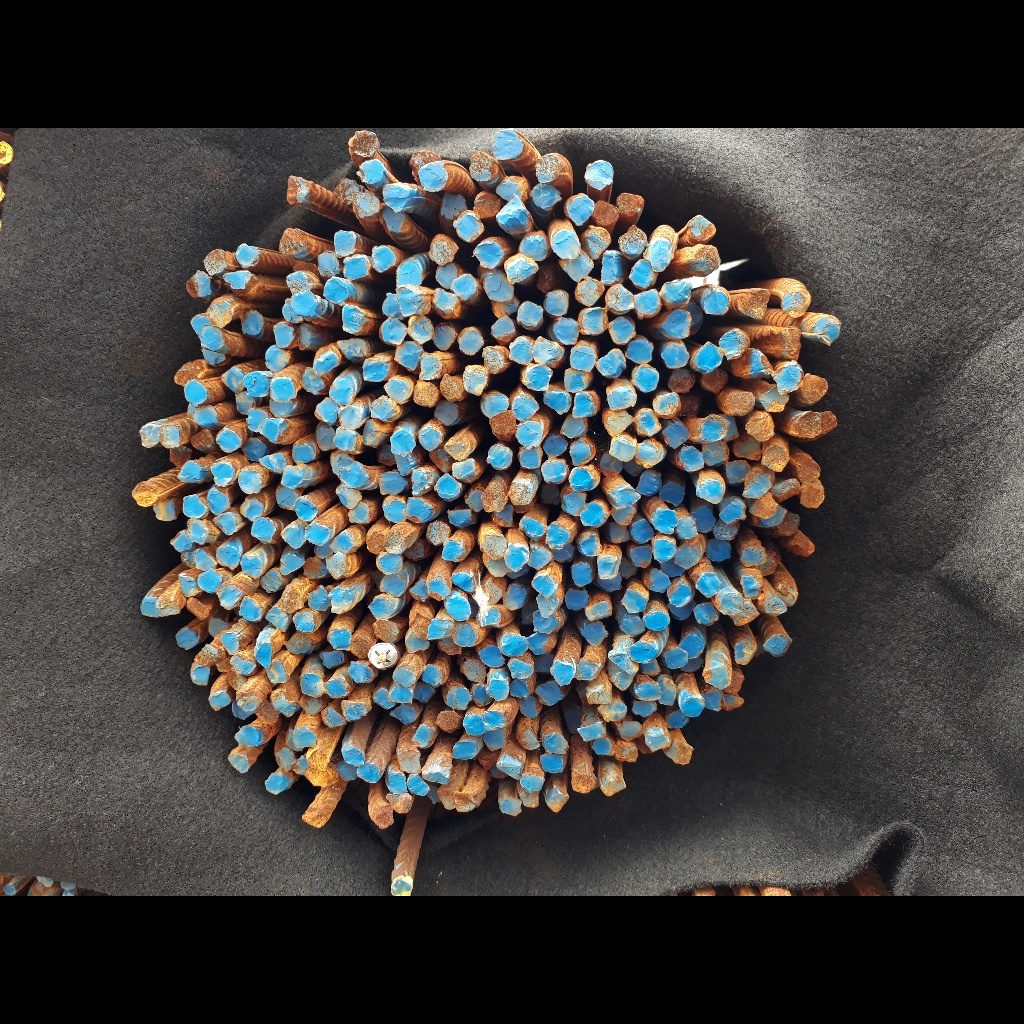dipstick: (495, 198, 535, 233), (331, 452, 368, 488), (736, 287, 772, 322), (660, 309, 695, 342), (691, 340, 726, 372), (698, 474, 729, 508), (797, 370, 827, 405), (559, 249, 594, 279), (778, 288, 810, 320), (790, 452, 823, 483), (722, 389, 759, 416), (491, 131, 525, 160), (551, 228, 582, 259), (773, 364, 803, 396), (584, 159, 614, 190), (420, 160, 451, 190), (469, 149, 499, 180), (618, 226, 649, 256), (744, 413, 775, 443), (718, 329, 750, 358), (741, 470, 773, 499), (601, 407, 633, 436), (583, 226, 611, 259), (394, 339, 422, 372), (514, 233, 549, 259), (694, 414, 729, 440), (631, 364, 661, 394), (405, 623, 435, 653), (381, 182, 412, 211), (578, 498, 607, 529), (216, 539, 244, 571), (532, 339, 565, 366), (564, 367, 597, 394), (745, 346, 771, 380), (617, 191, 647, 220), (691, 247, 721, 276), (791, 410, 821, 439), (702, 661, 731, 691), (473, 241, 503, 270), (607, 383, 636, 413), (534, 678, 565, 706), (577, 276, 605, 307), (607, 315, 638, 343), (446, 428, 474, 459), (490, 409, 518, 440), (433, 260, 466, 286), (483, 274, 516, 300), (688, 213, 717, 242), (361, 420, 390, 449), (566, 195, 594, 225), (627, 259, 657, 287), (530, 610, 565, 634), (433, 473, 463, 501), (568, 558, 595, 589), (652, 392, 684, 418), (799, 481, 827, 510), (263, 344, 292, 372), (472, 189, 500, 218), (666, 578, 694, 607), (429, 236, 458, 264), (617, 608, 645, 637), (553, 318, 582, 346), (369, 592, 398, 620), (503, 543, 531, 572), (332, 177, 362, 204), (495, 173, 525, 200), (676, 541, 706, 568), (278, 463, 308, 490), (637, 441, 664, 471), (407, 317, 437, 344), (335, 483, 365, 510), (598, 695, 629, 721), (659, 478, 684, 510), (505, 257, 538, 281), (677, 631, 705, 659), (607, 283, 635, 311), (700, 288, 729, 315), (322, 274, 349, 303), (280, 522, 307, 551), (490, 498, 517, 527), (454, 215, 484, 241), (371, 396, 401, 422), (418, 351, 444, 381), (571, 391, 601, 417), (569, 466, 599, 492), (567, 439, 598, 464), (759, 388, 791, 412), (373, 550, 405, 574), (378, 471, 410, 495), (339, 337, 372, 360), (186, 269, 213, 297), (661, 339, 688, 367), (383, 315, 410, 343), (625, 334, 653, 361), (634, 408, 661, 436), (388, 428, 416, 455), (512, 392, 540, 419), (762, 445, 791, 471), (718, 497, 747, 523), (298, 673, 327, 699), (239, 467, 265, 496), (525, 631, 554, 657), (451, 622, 480, 648), (405, 498, 434, 524), (203, 246, 228, 276), (631, 677, 661, 702), (784, 534, 815, 558), (342, 304, 366, 335), (300, 365, 327, 392), (663, 421, 690, 448), (678, 444, 705, 471), (652, 508, 679, 535), (644, 567, 671, 594), (621, 587, 648, 614), (482, 346, 509, 373), (482, 390, 509, 417), (763, 632, 791, 658), (285, 179, 311, 207), (643, 246, 671, 272), (289, 290, 317, 316), (441, 191, 467, 219), (396, 286, 424, 312), (324, 550, 350, 578), (333, 426, 359, 454), (464, 368, 490, 396), (565, 587, 593, 613), (175, 361, 204, 386), (569, 345, 598, 370), (353, 193, 383, 217), (356, 160, 386, 184), (656, 677, 680, 707), (724, 459, 754, 483), (516, 303, 546, 327), (347, 132, 379, 154), (409, 150, 441, 172), (813, 319, 840, 345), (693, 600, 719, 627), (370, 245, 396, 272), (703, 439, 729, 466), (586, 679, 613, 705), (550, 659, 576, 686), (274, 486, 301, 512), (458, 328, 485, 354), (373, 619, 399, 646), (562, 488, 588, 515), (540, 458, 567, 484), (546, 287, 571, 315), (611, 434, 636, 462), (369, 643, 397, 668), (542, 430, 567, 458), (520, 515, 548, 540), (499, 632, 528, 656), (577, 530, 606, 554), (427, 616, 456, 640), (476, 604, 505, 628), (475, 581, 504, 605), (776, 578, 799, 608), (600, 251, 622, 282), (543, 787, 569, 813), (280, 229, 306, 255), (197, 568, 223, 594), (221, 367, 247, 393), (303, 556, 329, 582), (396, 261, 422, 287), (510, 338, 536, 364), (210, 459, 235, 486), (243, 371, 268, 398), (343, 254, 370, 279), (633, 291, 660, 316), (265, 605, 290, 632), (251, 517, 276, 544), (329, 586, 354, 613), (580, 306, 607, 331), (676, 541, 701, 568), (546, 522, 571, 549), (435, 399, 462, 424), (236, 722, 264, 746), (498, 754, 526, 778), (501, 583, 529, 607), (486, 445, 514, 469), (442, 686, 471, 709), (362, 358, 391, 381), (229, 655, 259, 677), (384, 378, 414, 400), (442, 596, 472, 618), (388, 702, 419, 723), (740, 544, 766, 569), (396, 749, 422, 774), (188, 595, 214, 620), (200, 324, 225, 350), (217, 584, 242, 610), (240, 311, 265, 337), (451, 273, 476, 299), (328, 375, 353, 401), (338, 402, 364, 427), (382, 496, 407, 522), (524, 364, 550, 389), (452, 566, 478, 591), (480, 534, 506, 559), (535, 157, 562, 181), (531, 184, 558, 208), (663, 647, 690, 671), (702, 367, 729, 391), (393, 664, 420, 688), (380, 292, 403, 320), (582, 622, 610, 645), (592, 202, 621, 224), (269, 323, 298, 345), (694, 503, 716, 532), (750, 495, 780, 516), (192, 545, 217, 570), (214, 511, 239, 536), (206, 489, 231, 514), (217, 427, 242, 452), (637, 471, 662, 496), (427, 521, 452, 546), (781, 330, 805, 356), (184, 517, 208, 543), (184, 380, 208, 406), (437, 709, 461, 735), (286, 632, 312, 656), (600, 351, 624, 377), (435, 324, 459, 350), (479, 645, 505, 669), (565, 415, 591, 439), (418, 424, 442, 450), (441, 374, 465, 400), (543, 390, 569, 414), (599, 773, 626, 796), (388, 791, 415, 814), (131, 485, 158, 508), (538, 752, 565, 775), (269, 377, 296, 400), (312, 348, 339, 371), (676, 512, 699, 539), (316, 424, 339, 451), (414, 382, 441, 405), (665, 743, 693, 765), (615, 720, 643, 742), (422, 763, 450, 785), (308, 586, 330, 614), (771, 480, 800, 501), (290, 441, 319, 462), (447, 507, 476, 528), (371, 804, 396, 828), (303, 767, 333, 787), (272, 691, 297, 715), (461, 712, 486, 736), (246, 406, 270, 431), (316, 252, 340, 277), (239, 554, 263, 579), (241, 496, 265, 521), (294, 498, 319, 522), (262, 771, 288, 794), (178, 461, 204, 484), (475, 747, 501, 770), (261, 567, 284, 593), (312, 397, 338, 420), (431, 287, 458, 309), (630, 519, 657, 541), (596, 552, 618, 579), (484, 484, 506, 511), (383, 214, 414, 233), (677, 697, 705, 718), (223, 269, 252, 289), (378, 572, 407, 592), (155, 593, 179, 617), (191, 428, 215, 452), (610, 521, 634, 545), (331, 530, 355, 554), (427, 575, 451, 599), (509, 481, 533, 505), (517, 445, 541, 469), (643, 728, 668, 751), (356, 760, 381, 783), (705, 539, 730, 562), (263, 452, 288, 475), (652, 537, 675, 562), (366, 529, 389, 554), (734, 603, 760, 625), (384, 769, 410, 791), (157, 424, 183, 446), (208, 301, 234, 323), (584, 598, 610, 620), (535, 592, 561, 614), (254, 641, 275, 668), (540, 733, 568, 753), (479, 730, 507, 750), (333, 230, 356, 254), (576, 660, 600, 683), (631, 543, 654, 567), (424, 665, 448, 688), (696, 573, 721, 595), (282, 298, 304, 323), (329, 629, 354, 651), (395, 452, 420, 474), (498, 795, 524, 816), (474, 681, 495, 707), (322, 679, 348, 700), (241, 439, 267, 460), (452, 462, 478, 483), (431, 445, 452, 471), (292, 726, 319, 746), (630, 697, 657, 717), (577, 721, 607, 739), (348, 661, 375, 681), (193, 644, 221, 663), (668, 370, 696, 389), (531, 577, 559, 596), (778, 513, 801, 536), (227, 751, 250, 774), (195, 404, 218, 427), (765, 595, 789, 617), (614, 742, 638, 764), (343, 746, 365, 770), (302, 807, 326, 829), (207, 691, 231, 713), (177, 573, 199, 597), (171, 528, 193, 552), (234, 392, 256, 416), (492, 317, 516, 339), (352, 634, 374, 658), (442, 540, 466, 562), (468, 489, 490, 513), (406, 775, 431, 796), (235, 692, 260, 713), (181, 494, 206, 515), (280, 552, 305, 573), (493, 298, 518, 319), (615, 488, 640, 509), (319, 708, 345, 728), (266, 659, 286, 685), (631, 642, 657, 662), (483, 556, 509, 576), (453, 791, 476, 813), (488, 675, 510, 698), (518, 696, 541, 718), (512, 675, 534, 698), (601, 453, 624, 475), (453, 738, 477, 759), (342, 700, 367, 720), (482, 708, 507, 728), (370, 688, 395, 708), (295, 325, 315, 350), (644, 611, 669, 631), (385, 528, 405, 553), (259, 700, 278, 726), (199, 347, 226, 365), (437, 788, 460, 809), (413, 726, 436, 747), (191, 665, 212, 688), (154, 499, 177, 520), (236, 245, 259, 266), (263, 420, 286, 441), (465, 658, 486, 681), (516, 728, 540, 748), (169, 446, 194, 465), (517, 773, 543, 791), (741, 575, 762, 597), (701, 690, 722, 712), (139, 427, 160, 449), (295, 612, 317, 633), (409, 579, 431, 600), (759, 555, 779, 578), (734, 643, 754, 666), (176, 627, 199, 647), (599, 572, 622, 592), (270, 399, 295, 417), (669, 601, 695, 618), (232, 700, 253, 721), (140, 597, 161, 618), (178, 548, 199, 569), (591, 735, 612, 756), (307, 524, 328, 545), (405, 539, 426, 560), (720, 594, 742, 614), (620, 558, 640, 580), (721, 694, 745, 712), (190, 314, 214, 332), (320, 649, 345, 666), (551, 544, 576, 561), (414, 681, 435, 701), (665, 711, 689, 728), (390, 683, 414, 700), (713, 524, 740, 539), (761, 509, 786, 525), (207, 617, 228, 636), (285, 273, 307, 291), (391, 877, 414, 894), (640, 658, 663, 675), (337, 761, 357, 780), (277, 746, 294, 768), (661, 557, 683, 574), (573, 776, 596, 792), (725, 672, 744, 691), (820, 413, 836, 435), (521, 790, 540, 808), (286, 731, 302, 752), (308, 750, 329, 765), (725, 417, 740, 438), (682, 657, 702, 672), (427, 781, 440, 804), (186, 403, 197, 415)
